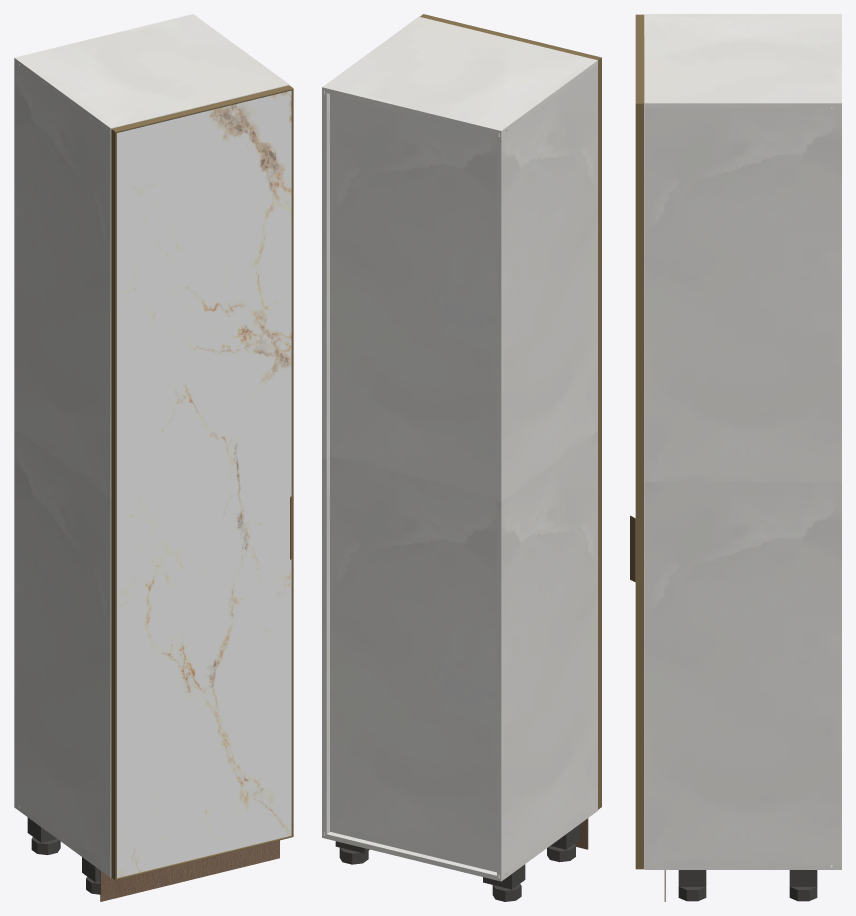
Rendered from TC-PO-TTS-ST-2SX-LHS-4PO-600-2400-560-15.glb.
3 renders of one model, left to right at view 1: azimuth 30°, elevation 25°; view 2: azimuth 150°, elevation 25°; view 3: azimuth 270°, elevation 25°, orthographic. The views are drawn at different scales.
Parts seen in each view (by area): view 1: Object_node_123, TP_node_0, TP, Extrusion_node_1, Object_node_125, Extrusion_node, Extrusion; view 2: TP_node_8, TP_node_0, TP, TP_node_1, Extrusion_node_1, TP_node, Extrusion; view 3: TP_node_1, TP, Extrusion_node, TP_node, ExtrSplGeo_node_2, Extrusion, Plate_node, Plate_node_1.
Boxes of the visible parts, x1,y1,x2,y2 form: Object_node_123: [117, 90, 291, 877]; TP_node_0: [14, 63, 111, 872]; TP: [14, 14, 289, 132]; Extrusion_node_1: [111, 129, 116, 880]; Object_node_125: [100, 840, 279, 901]; Extrusion_node: [291, 89, 293, 836]; Extrusion: [111, 85, 293, 132]; TP_node_8: [330, 94, 496, 872]; TP_node_0: [497, 65, 597, 876]; TP: [322, 16, 597, 135]; TP_node_1: [322, 92, 329, 833]; Extrusion_node_1: [598, 57, 601, 809]; TP_node: [322, 806, 597, 881]; Extrusion: [420, 14, 601, 60]; TP_node_1: [644, 107, 841, 865]; TP: [644, 14, 841, 108]; Extrusion_node: [635, 103, 644, 869]; TP_node: [644, 865, 841, 869]; ExtrSplGeo_node_2: [630, 515, 643, 582]; Extrusion: [635, 14, 643, 103]; Plate_node: [789, 870, 817, 886]; Plate_node_1: [678, 870, 706, 886].
Size of what is drawn, in the model's own units: 0.6 by 2.5 by 0.6012.
Materials: 9 (3 with a texture image).
